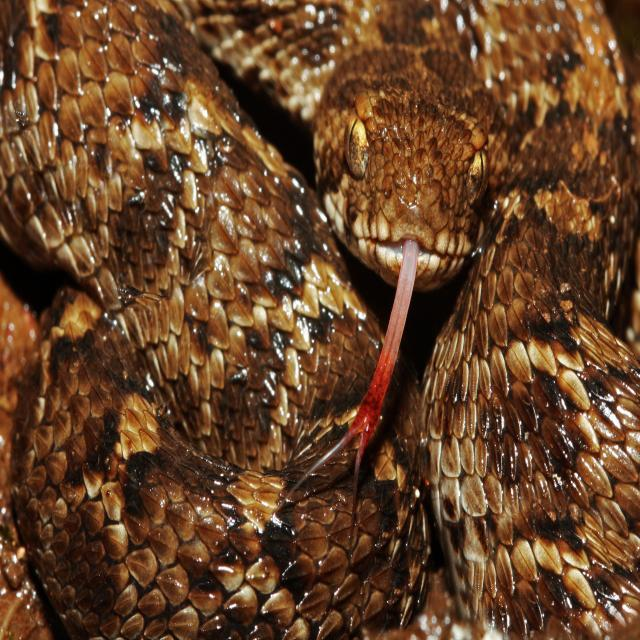Snake: (1, 0, 638, 638)
